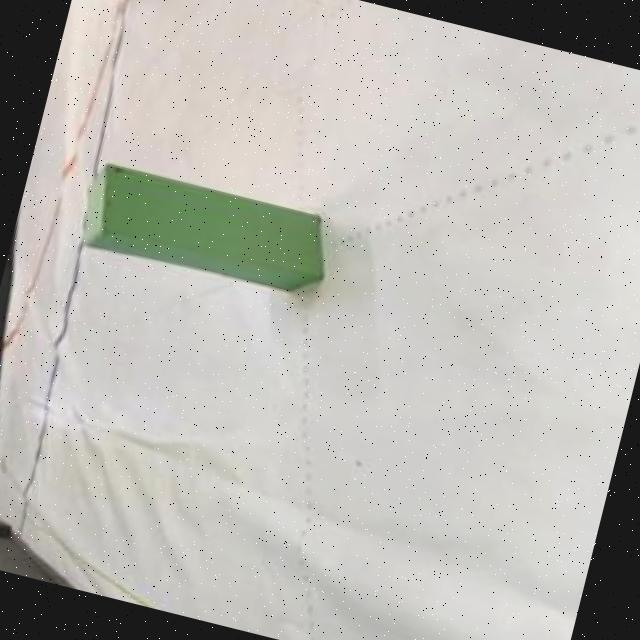greenbox: (68, 155, 336, 304)
